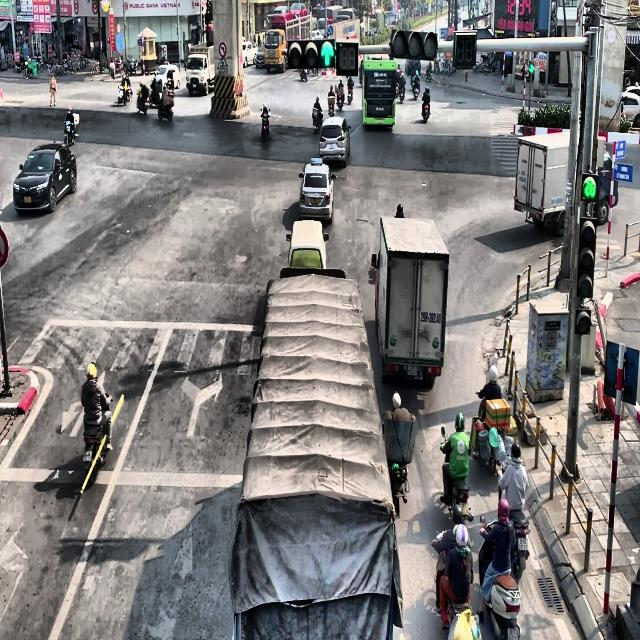lisence_plate: (82, 448, 93, 470), (404, 363, 418, 378), (311, 198, 319, 206)
